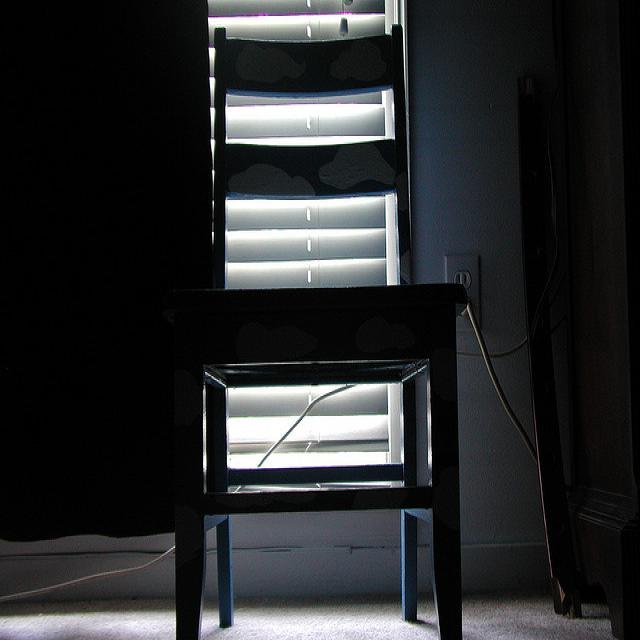Table: (144, 245, 486, 640)
